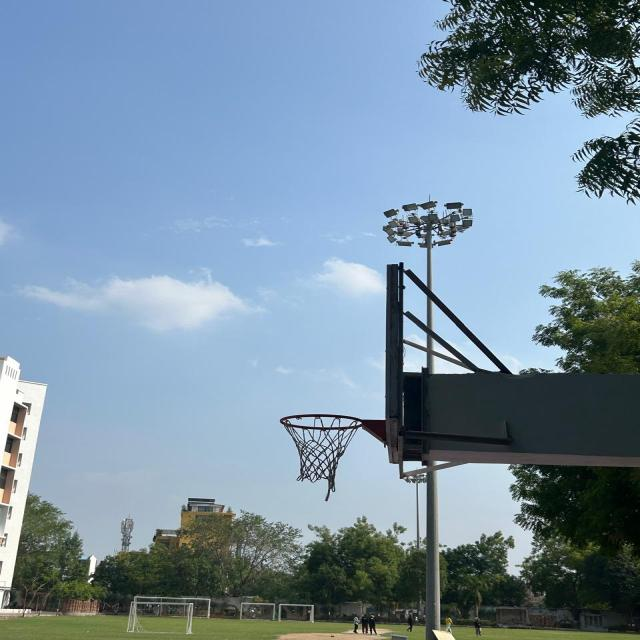hoop: (274, 398, 392, 493)
